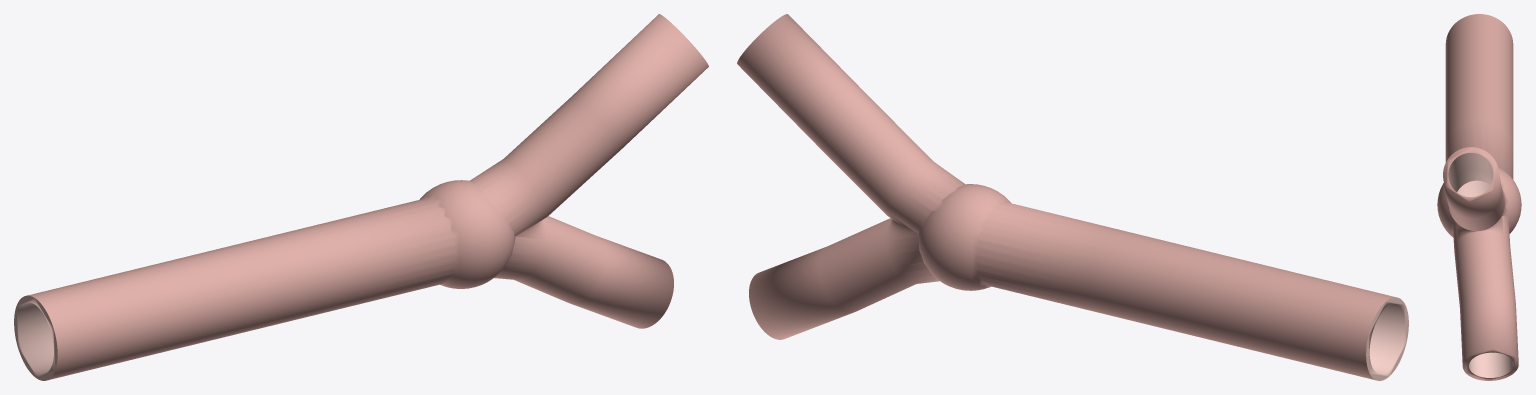
File: central-airway-full-1b655fb75a36.glb
3 renders of one model, left to right at view 1: azimuth 30°, elevation 25°; view 2: azimuth 150°, elevation 25°; view 3: azimuth 270°, elevation 25°, orthographic. The views are drawn at different scales.
Visible parts, largest first — view 1: Airway_Outer_Wall, Airway_Inner_Lumen; view 2: Airway_Outer_Wall, Airway_Inner_Lumen; view 3: Airway_Outer_Wall, Airway_Inner_Lumen.
Part boxes in pixels (box(x1,y1,x2,y2)): Airway_Outer_Wall: box(27, 14, 708, 380); Airway_Inner_Lumen: box(14, 295, 57, 380); Airway_Outer_Wall: box(737, 14, 1395, 380); Airway_Inner_Lumen: box(1366, 297, 1408, 380); Airway_Outer_Wall: box(1437, 14, 1521, 380); Airway_Inner_Lumen: box(1448, 153, 1513, 377).
Bounding box in the file's own units: 0.2098 × 0.0948 × 0.03.
